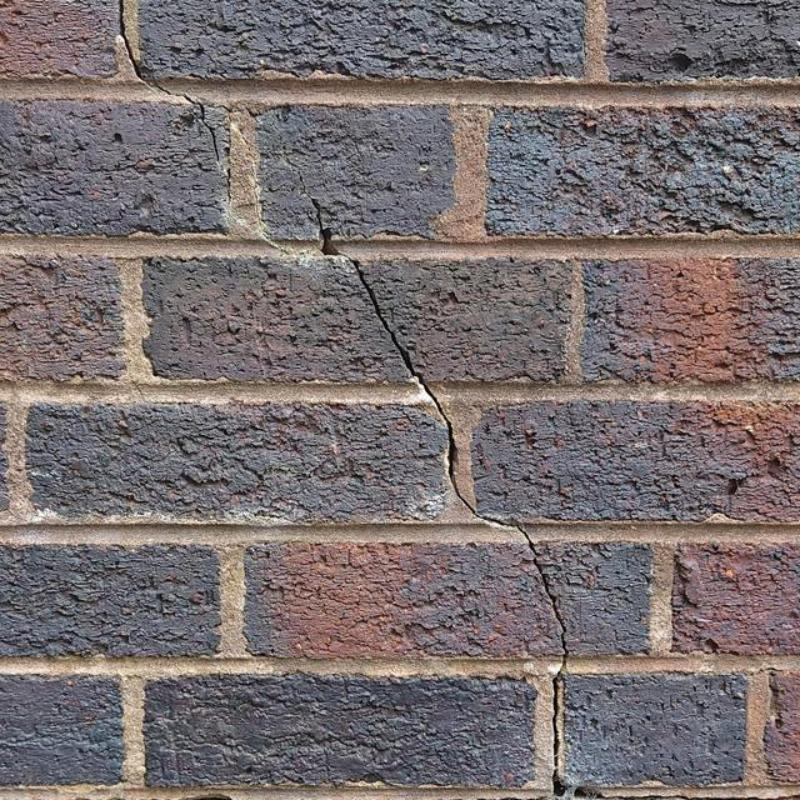pothole: (350, 260, 542, 557), (118, 0, 219, 164), (533, 558, 568, 797), (300, 176, 344, 256), (575, 788, 607, 798)
